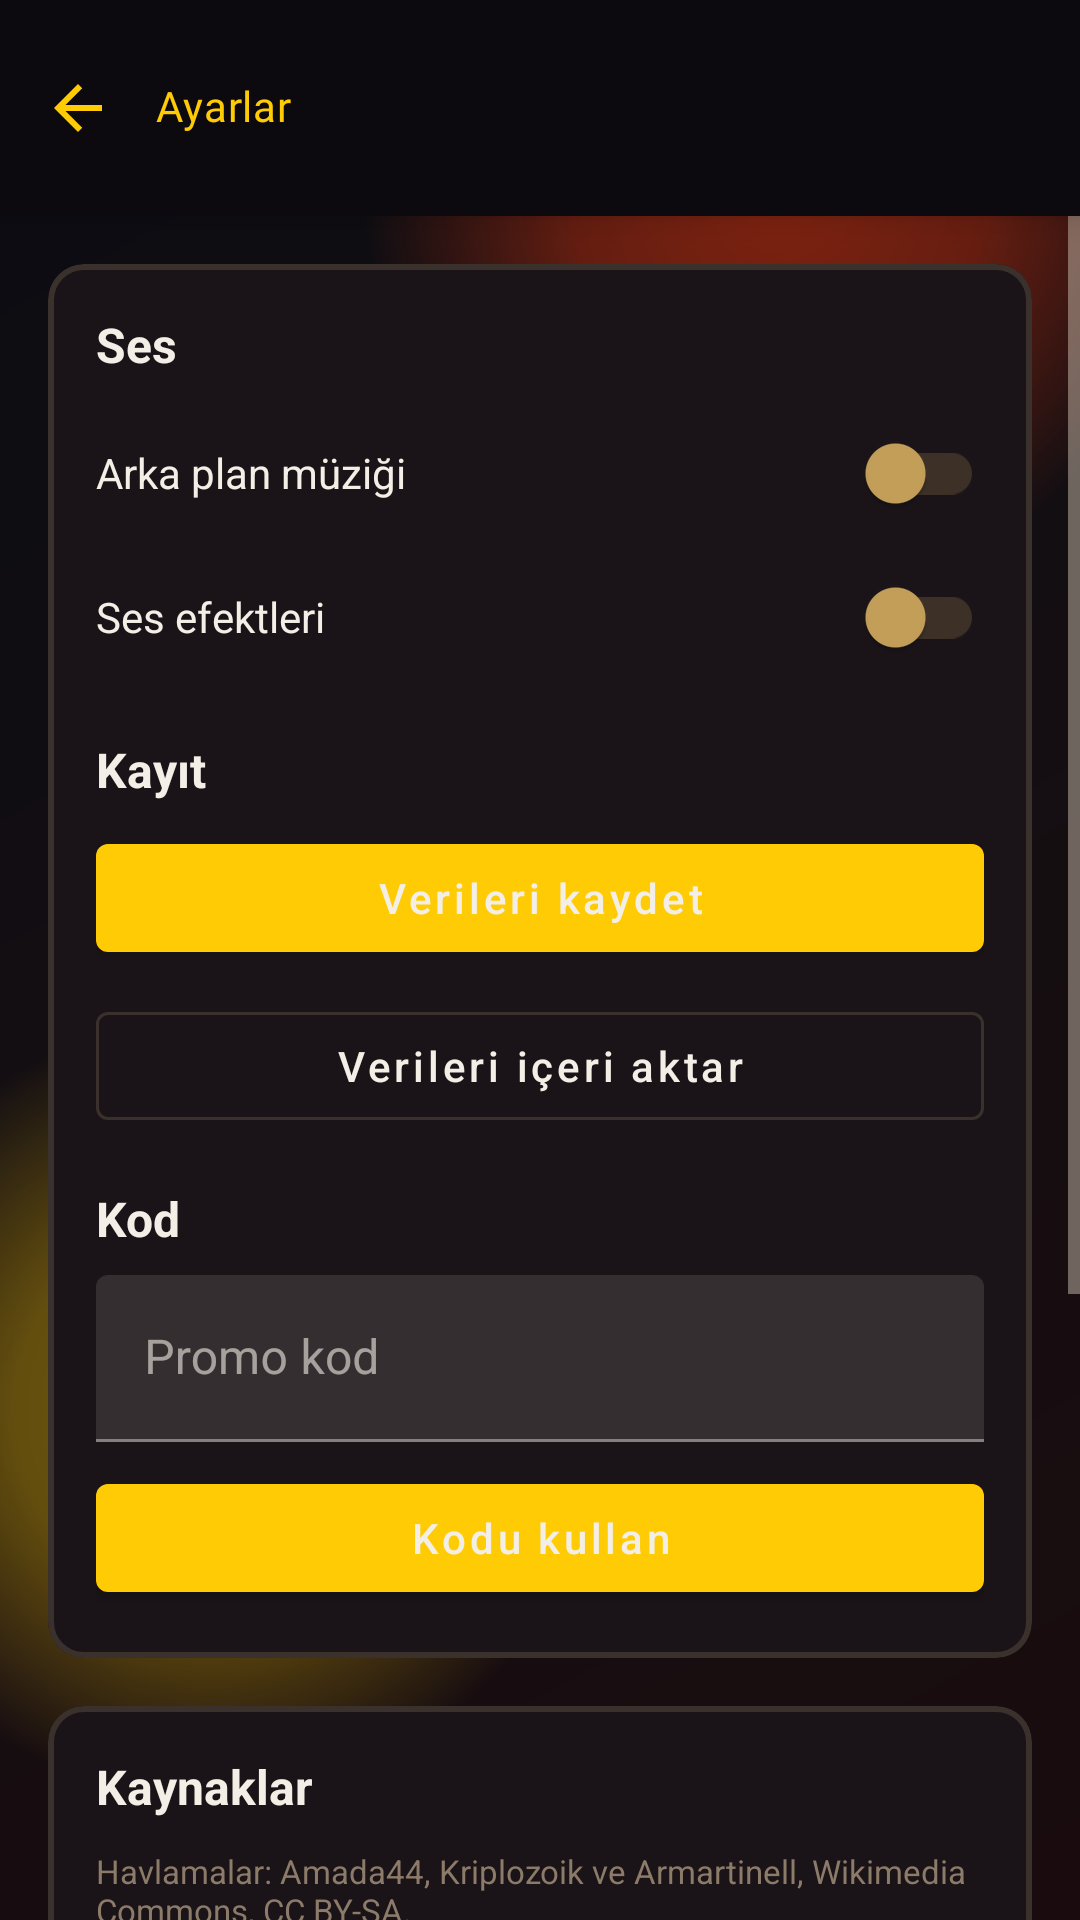

Icon click points for this 1080px x 1920px phone screenshot, format [x,y]:
Vazgeç: [78,108]
